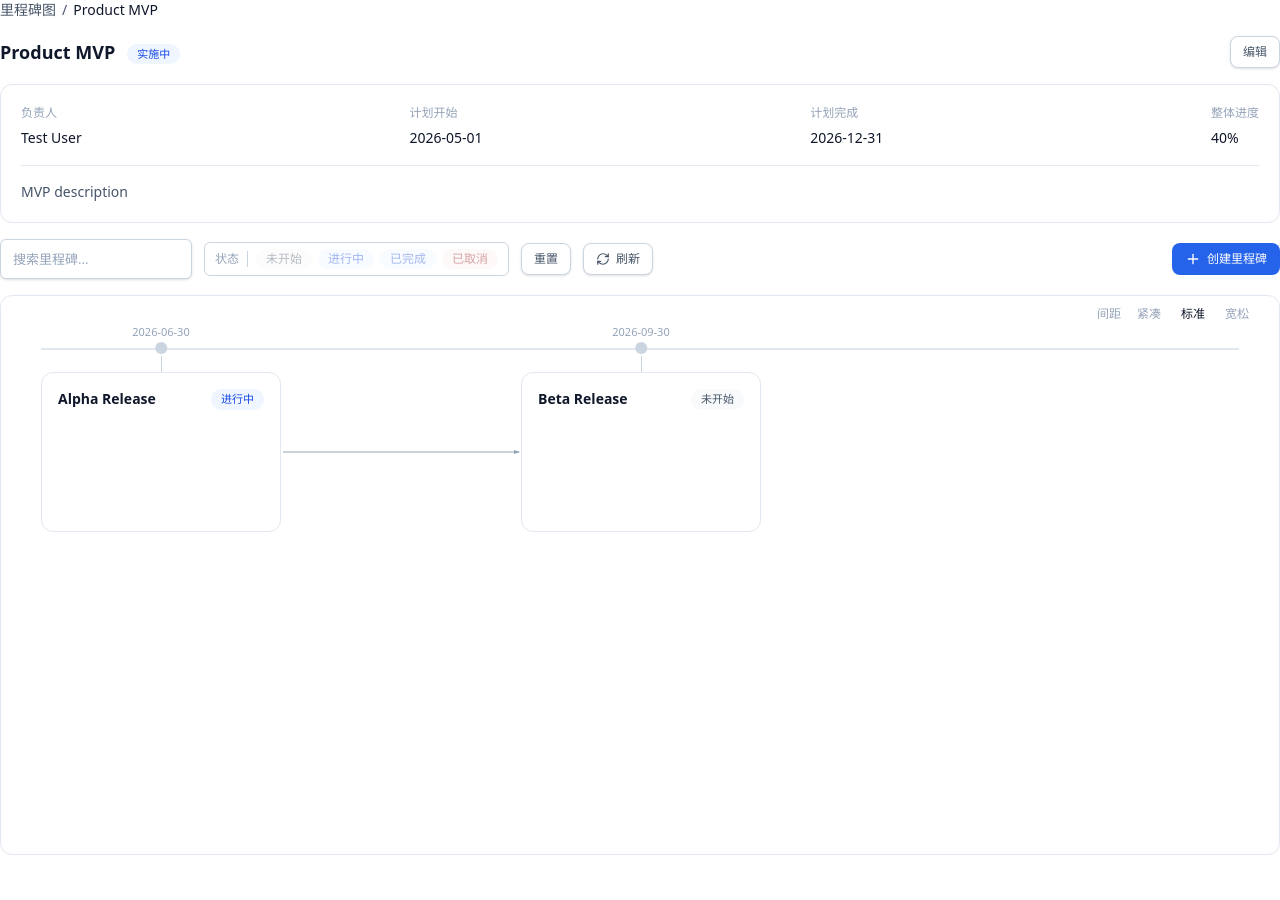
MilestoneDetailPage › opens edit map dialog when edit button is clicked
Expected: the text "Alpha Release" is shown, x1=58 y1=389 x2=156 y2=408
Click the button "编辑": (1255, 52) x1=1230 y1=36 x2=1279 y2=68
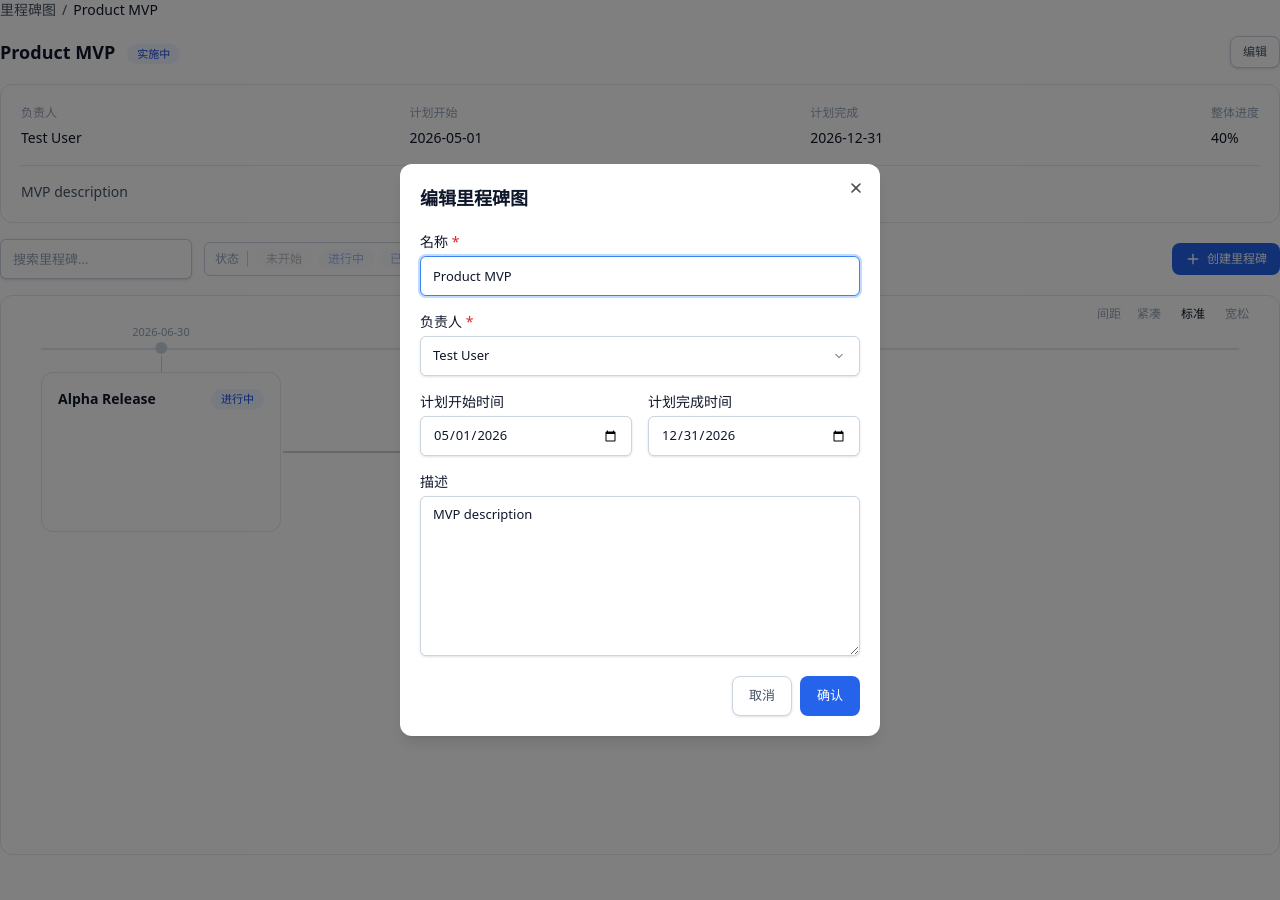
Now the heading "编辑里程碑图" is shown, box x1=420 y1=186 x2=528 y2=210
